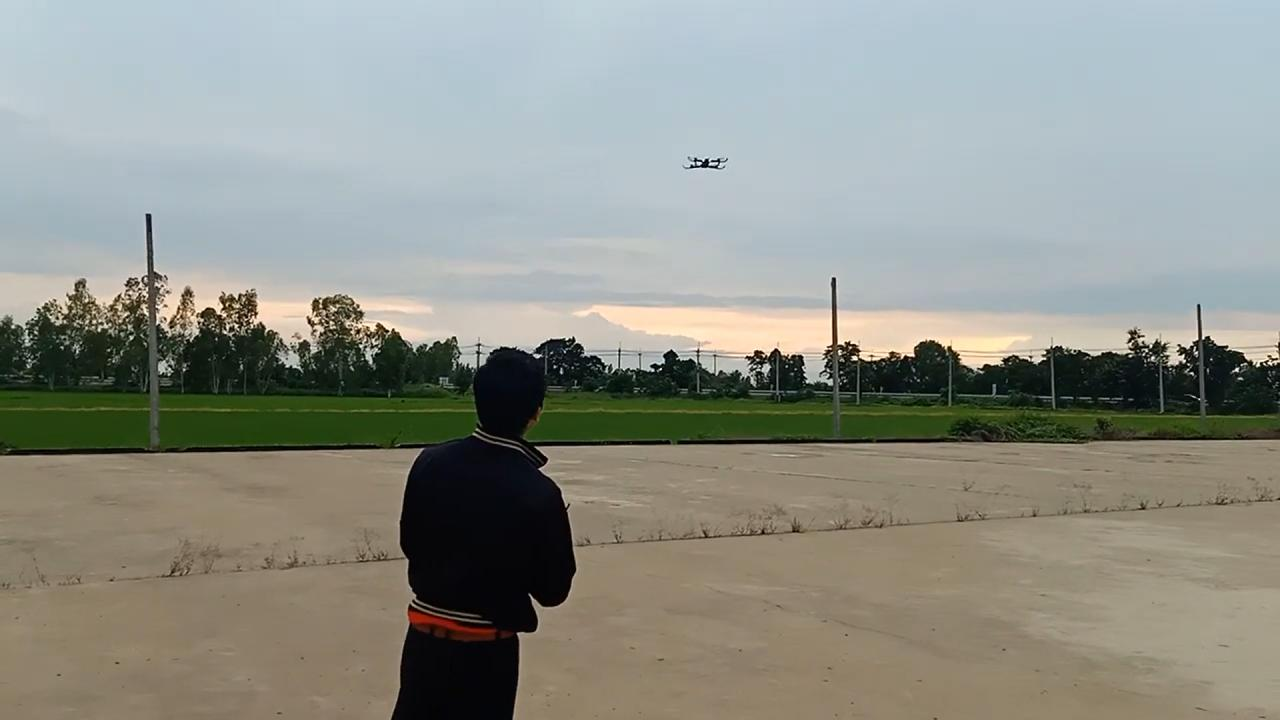Drone: (672, 144, 738, 182)
